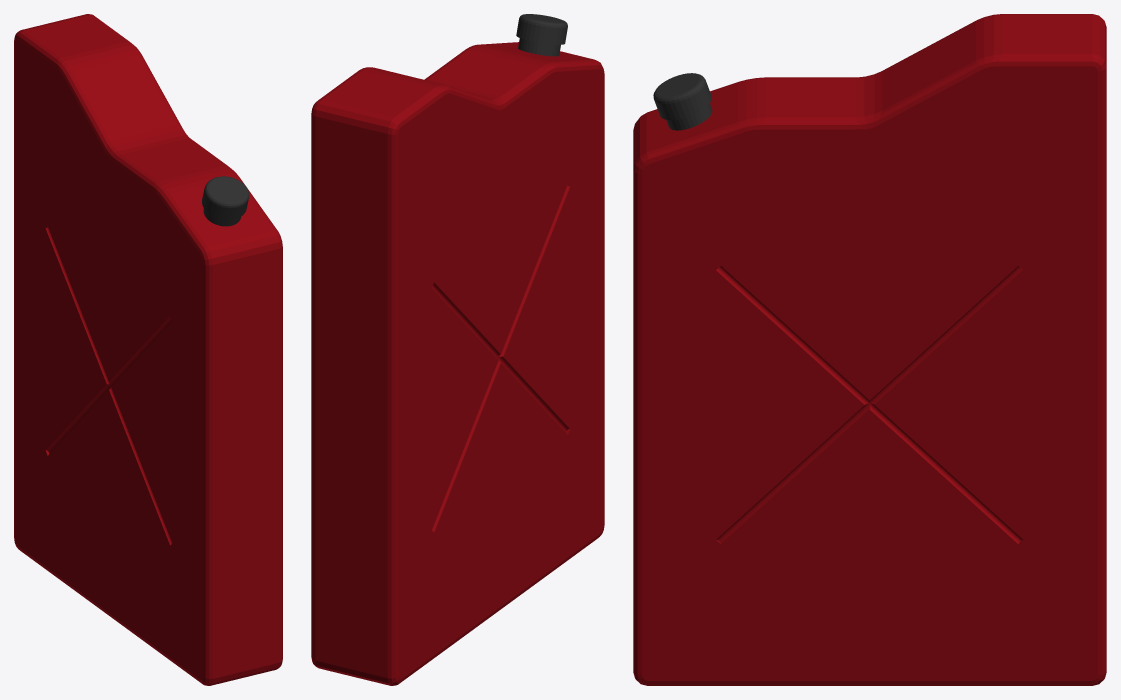
The model's file is kanistr.glb.
3 renders of one model, left to right at view 1: azimuth 30°, elevation 25°; view 2: azimuth 150°, elevation 25°; view 3: azimuth 270°, elevation 25°, orthographic. The views are drawn at different scales.
Visible parts, largest first — view 1: Cube; view 2: Cube; view 3: Cube.
Part boxes in pixels (x1,y1,x2,y2): Cube: [14, 14, 282, 685]; Cube: [311, 14, 604, 685]; Cube: [633, 14, 1106, 685].
Size of the model in its own units: 0.4672 by 2.94 by 2.
